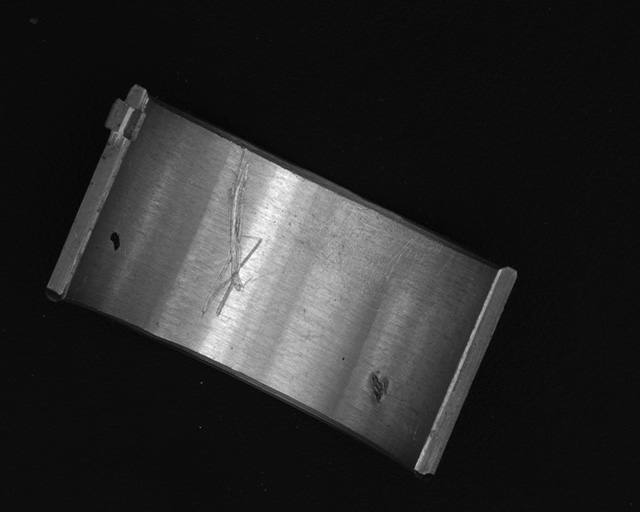blot: (108, 230, 122, 253)
bruise: (367, 370, 390, 406)
nick: (203, 145, 266, 316)
scratch: (318, 200, 456, 289)
